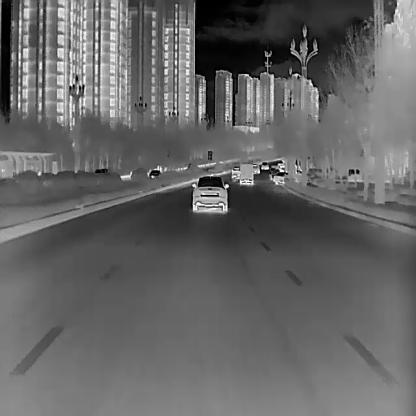car: (190, 174, 229, 213), (238, 161, 254, 184), (270, 170, 296, 184), (147, 169, 160, 179), (231, 166, 239, 178), (252, 162, 260, 174), (261, 161, 269, 170)
